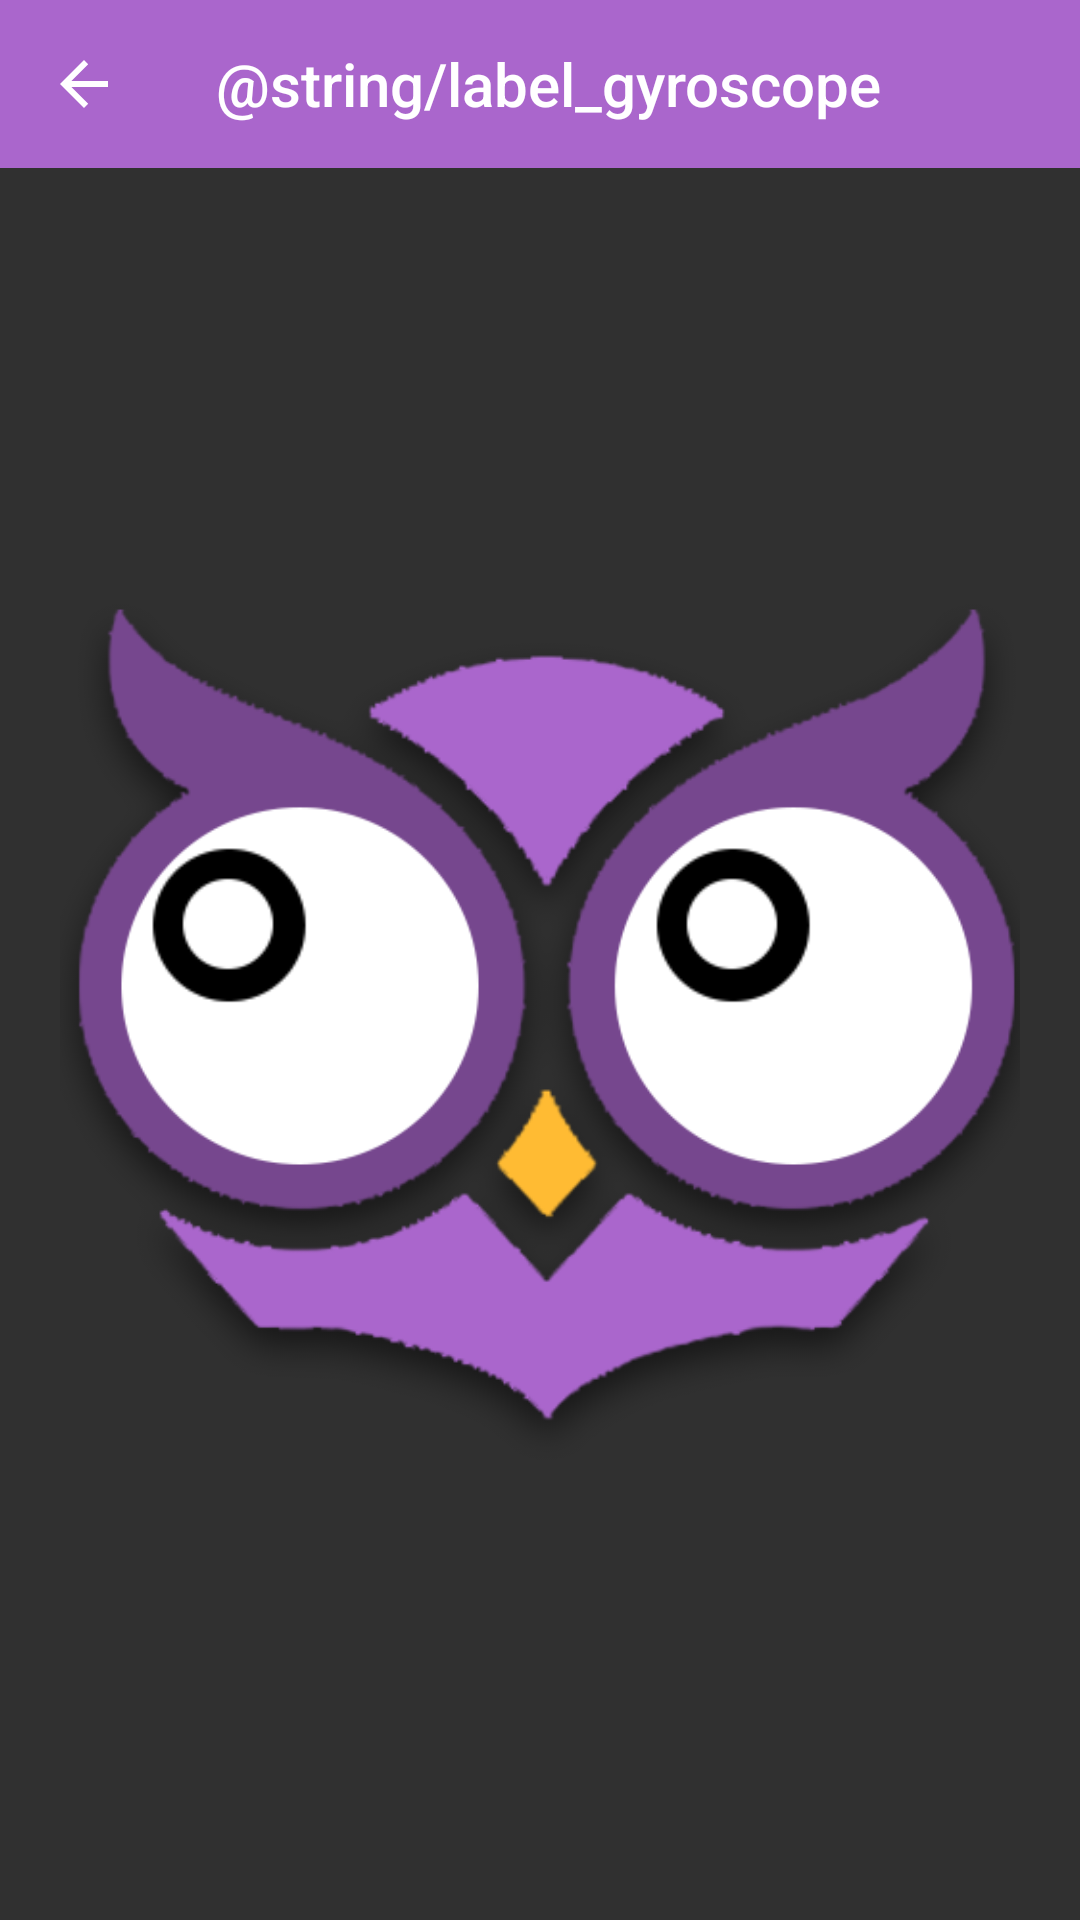

Icons on this 1080w x 1920h Android screen, each with the point to tap as (x,y):
eye: (228,924), (732,924)
